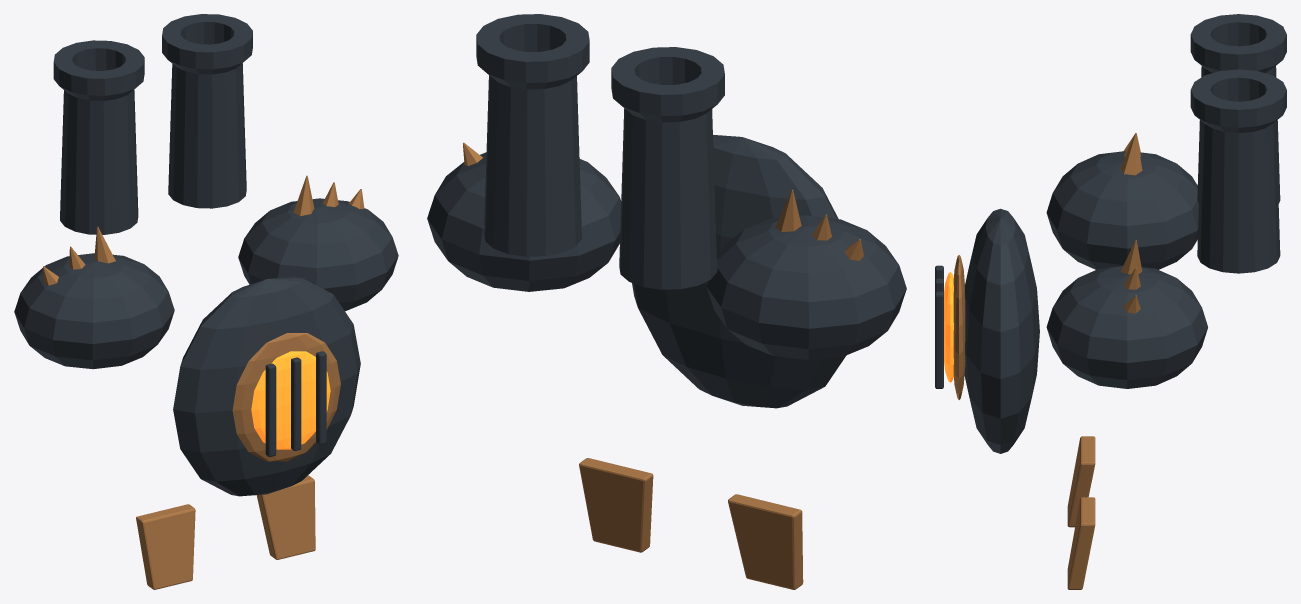
File: kiln-tyrant-v1.glb
The picture shows the model from 3 angles, left to right: view 1: azimuth 30°, elevation 25°; view 2: azimuth 150°, elevation 25°; view 3: azimuth 270°, elevation 25°; orthographic projection. The views are drawn at different scales.
Visible parts, largest first — view 1: Furnace cuirass, Chimney.001, Chimney, Kiln pauldron, Kiln pauldron.001, Furnace opening, Shin forge, Burning chamber, Shin forge.001, Fire grille, Fire grille.002, Fire grille.001; view 2: Chimney, Chimney.001, Kiln pauldron, Furnace cuirass, Kiln pauldron.001, Shin forge, Shin forge.001, Vent fin; view 3: Chimney.001, Kiln pauldron.001, Furnace cuirass, Kiln pauldron, Chimney, Shin forge.001, Furnace opening, Shin forge, Burning chamber, Fire grille.002, Vent fin.
Part boxes in pixels (x1,y1,x2,y2): Furnace cuirass: [173, 277, 360, 496]; Chimney.001: [162, 14, 252, 208]; Chimney: [53, 40, 144, 234]; Kiln pauldron: [14, 253, 174, 369]; Kiln pauldron.001: [238, 198, 398, 311]; Furnace opening: [232, 333, 340, 461]; Shin forge: [136, 504, 195, 589]; Burning chamber: [251, 351, 330, 449]; Shin forge.001: [256, 475, 315, 559]; Fire grille: [265, 363, 276, 456]; Fire grille.002: [316, 351, 326, 444]; Fire grille.001: [291, 357, 301, 450]; Chimney: [611, 47, 724, 289]; Chimney.001: [476, 14, 589, 256]; Kiln pauldron: [706, 215, 906, 359]; Furnace cuirass: [632, 135, 846, 408]; Kiln pauldron.001: [427, 152, 621, 291]; Shin forge: [728, 494, 803, 589]; Shin forge.001: [579, 458, 653, 552]; Vent fin: [775, 189, 801, 231]; Chimney.001: [1190, 69, 1286, 273]; Kiln pauldron.001: [1046, 266, 1207, 388]; Furnace cuirass: [964, 208, 1039, 453]; Kiln pauldron: [1046, 151, 1198, 269]; Chimney: [1190, 14, 1286, 203]; Shin forge.001: [1067, 497, 1095, 589]; Furnace opening: [953, 255, 965, 399]; Shin forge: [1067, 436, 1095, 527]; Burning chamber: [944, 272, 953, 382]; Fire grille.002: [935, 291, 943, 388]; Vent fin: [1120, 133, 1142, 175].
Bounding box in the file's own units: 2.02 × 2.46 × 1.61.
